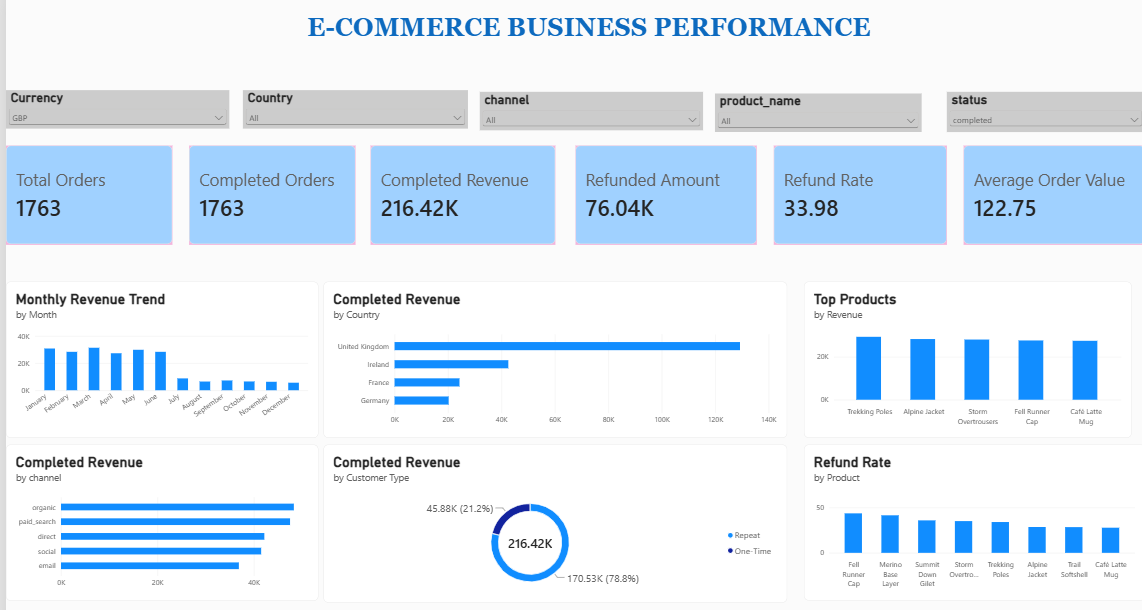

This screenshot's page, from the dashboard's own definition file:
{"tool":"powerbi","page":{"name":"Page 1","canvas":[1920,1080],"ordinal":0},"visuals":[{"type":"cardVisual","fields":{"Data":["ecommerce_analysis.Total_orders"]},"box":[0,260.4,280.2,167],"z":0},{"type":"cardVisual","fields":{"Data":["ecommerce_analysis.Completed Revenue"]},"box":[614.1,260.4,311.3,167],"z":2},{"type":"cardVisual","fields":{"Data":["ecommerce_analysis.amount"]},"box":[959.4,260.4,305.6,167],"z":5},{"type":"cardVisual","fields":{"Data":["ecommerce_analysis.completed orders"]},"box":[308.5,260.4,280.2,167],"z":6},{"type":"cardVisual","fields":{"Data":["ecommerce_analysis.Refund Rate"]},"box":[1293.3,260.4,291.5,167],"z":7},{"type":"cardVisual","fields":{"Data":["ecommerce_analysis.Average Oreder Value"]},"box":[1613.1,260.4,305.6,167],"z":8},{"type":"slicer","fields":{"Values":["ecommerce_analysis.currency"]},"box":[0,167,376.4,65.1],"z":9},{"type":"slicer","fields":{"Values":["ecommerce_analysis.Country"]},"box":[399,167,379.2,65.1],"z":10},{"type":"slicer","fields":{"Values":["ecommerce_analysis.channel"]},"box":[798.1,169.8,376.4,65.1],"z":11},{"type":"slicer","fields":{"Values":["ecommerce_analysis.product_name"]},"box":[1194.3,172.6,348.1,65.1],"z":12},{"type":"slicer","fields":{"Values":["ecommerce_analysis.status"]},"box":[1584.8,169.8,333.9,67.9],"z":13},{"type":"textbox","box":[0,36.8,1918.7,62.3],"z":14},{"type":"clusteredColumnChart","fields":{"Category":["ecommerce_analysis.order_date.Variation.Date Hierarchy.Month"],"Y":["ecommerce_analysis.Completed Revenue"]},"box":[0,489.6,526.4,263.2],"z":15},{"type":"clusteredBarChart","fields":{"Category":["ecommerce_analysis.Country"],"Y":["ecommerce_analysis.Completed Revenue"]},"box":[534.9,489.6,781.1,263.2],"z":16},{"type":"clusteredColumnChart","title":"Top Products","fields":{"Category":["ecommerce_analysis.product_name"],"Y":["ecommerce_analysis.Completed Revenue"]},"box":[1344.3,489.6,551.9,263.2],"z":17},{"type":"clusteredBarChart","fields":{"Category":["ecommerce_analysis.channel"],"Y":["ecommerce_analysis.Completed Revenue"]},"box":[0,763,526,263],"z":18},{"type":"clusteredColumnChart","title":"Refund Rate ","fields":{"Category":["ecommerce_analysis.product_name"],"Y":["ecommerce_analysis.Refund Rate"]},"box":[1344.9,762.9,574.9,262.6],"z":19},{"type":"donutChart","fields":{"Category":["Customer Summary.Customer Type"],"Y":["Sum(ecommerce_analysis.order_total)"]},"box":[535.8,762.9,780.7,266.1],"z":20}]}

Visuals, with their boxes on the page's 1920x1080 design canvas (x1, y1, x2, y2). These are canvas units, not pixel positions in the 1142x610 screenshot, which may show the page scaled, cropped or inside an application window:
cardVisual - ecommerce_analysis.Total_orders: 0/260/280/427
cardVisual - ecommerce_analysis.Completed Revenue: 614/260/925/427
cardVisual - ecommerce_analysis.amount: 959/260/1265/427
cardVisual - ecommerce_analysis.completed orders: 308/260/589/427
cardVisual - ecommerce_analysis.Refund Rate: 1293/260/1585/427
cardVisual - ecommerce_analysis.Average Oreder Value: 1613/260/1919/427
slicer - ecommerce_analysis.currency: 0/167/376/232
slicer - ecommerce_analysis.Country: 399/167/778/232
slicer - ecommerce_analysis.channel: 798/170/1174/235
slicer - ecommerce_analysis.product_name: 1194/173/1542/238
slicer - ecommerce_analysis.status: 1585/170/1919/238
textbox: 0/37/1919/99
clusteredColumnChart - ecommerce_analysis.order_date.Variation.Date Hierarchy.Month x ecommerce_analysis.Completed Revenue: 0/490/526/753
clusteredBarChart - ecommerce_analysis.Country x ecommerce_analysis.Completed Revenue: 535/490/1316/753
"Top Products" clusteredColumnChart: 1344/490/1896/753
clusteredBarChart - ecommerce_analysis.channel x ecommerce_analysis.Completed Revenue: 0/763/526/1026
"Refund Rate " clusteredColumnChart: 1345/763/1920/1026
donutChart - Customer Summary.Customer Type x Sum(ecommerce_analysis.order_total): 536/763/1316/1029
